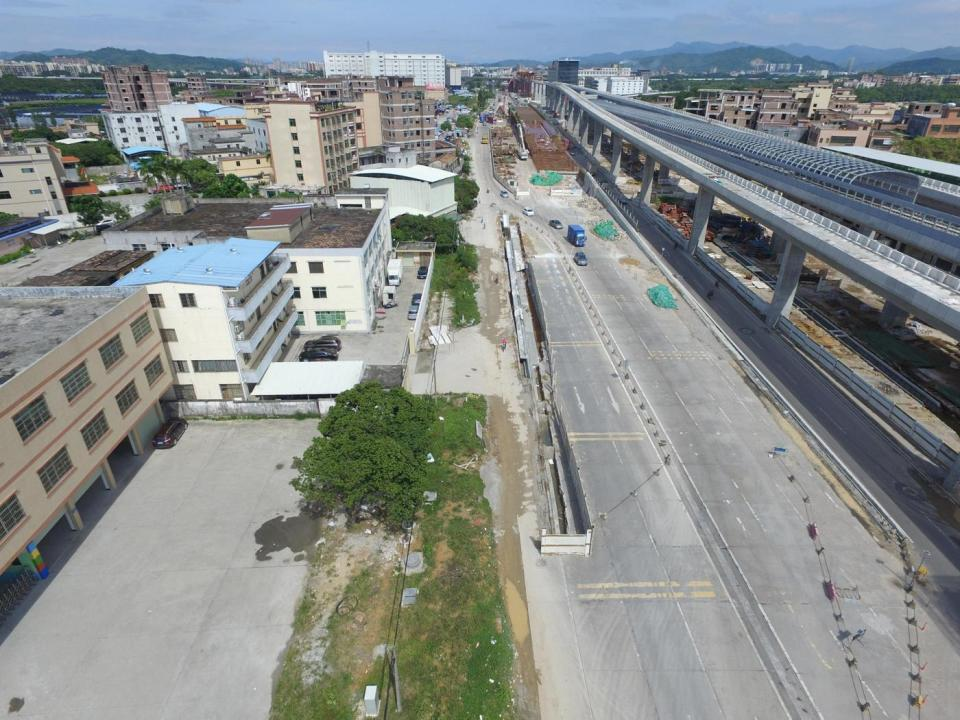car: (152, 415, 189, 450), (304, 336, 341, 353), (299, 350, 338, 363), (572, 252, 588, 265), (408, 304, 420, 321), (417, 266, 428, 280), (412, 294, 423, 307), (549, 220, 563, 229), (523, 208, 534, 216), (499, 190, 510, 197), (570, 151, 576, 155)
truck: (387, 259, 404, 286), (566, 223, 586, 245), (384, 285, 398, 307), (586, 162, 597, 178), (600, 178, 608, 192), (516, 152, 528, 160), (618, 194, 627, 204), (562, 139, 570, 150), (481, 136, 488, 143)
